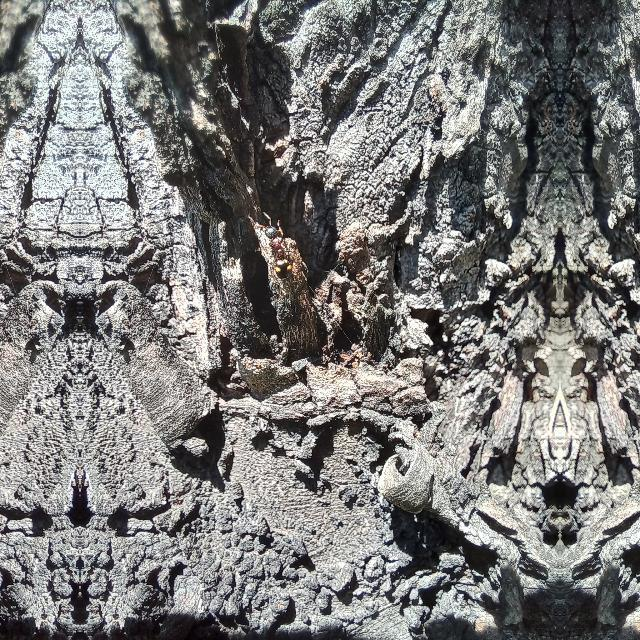Dolichoderus: (252, 218, 302, 276)
